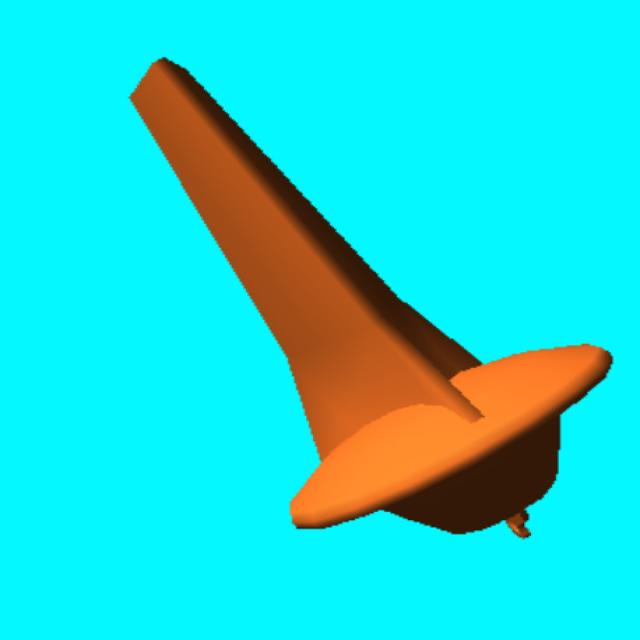OrangeBuoy: (131, 59, 611, 536)
